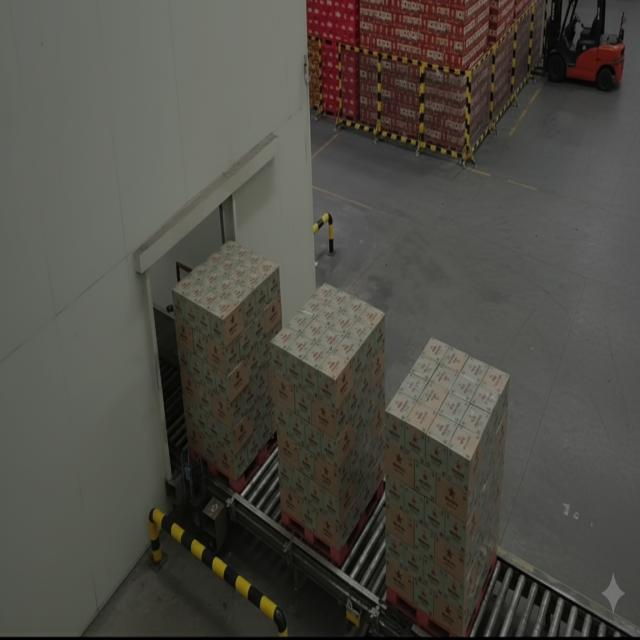pallet: (386, 332, 514, 640), (269, 277, 387, 577), (166, 232, 276, 497)
